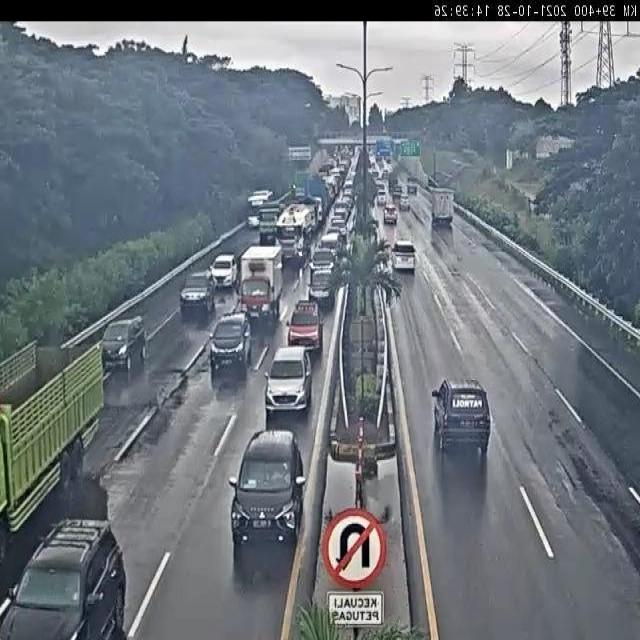Bus: (244, 187, 274, 228)
Car: (10, 507, 142, 640), (225, 424, 302, 542), (428, 378, 490, 444), (263, 340, 311, 420), (204, 315, 248, 379), (101, 304, 146, 364), (288, 297, 325, 349), (175, 270, 212, 316), (391, 238, 418, 280), (210, 253, 238, 292), (314, 244, 342, 274), (306, 270, 332, 301), (382, 201, 398, 227)
Truck: (0, 332, 108, 517), (234, 250, 286, 312), (273, 203, 314, 263), (426, 181, 457, 232)
